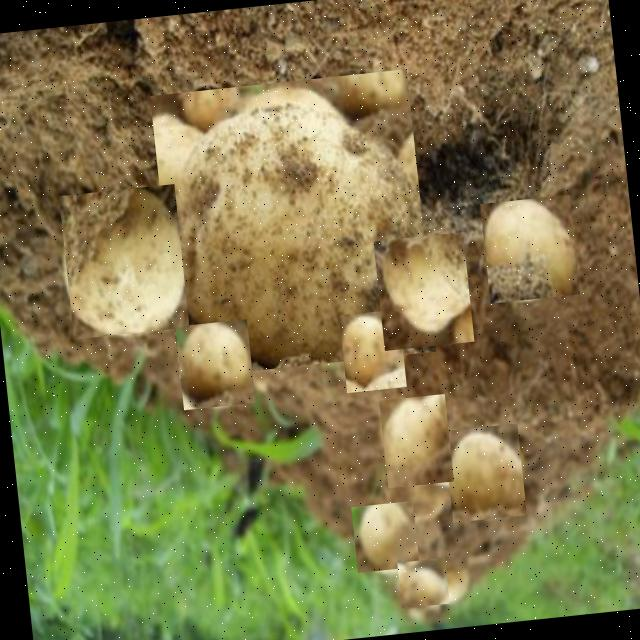Potato: (148, 68, 434, 377), (58, 183, 188, 338), (372, 230, 473, 350), (478, 193, 578, 303), (442, 422, 526, 521), (174, 318, 254, 409), (378, 392, 452, 487), (338, 308, 406, 392), (349, 499, 419, 572), (396, 556, 448, 608)
